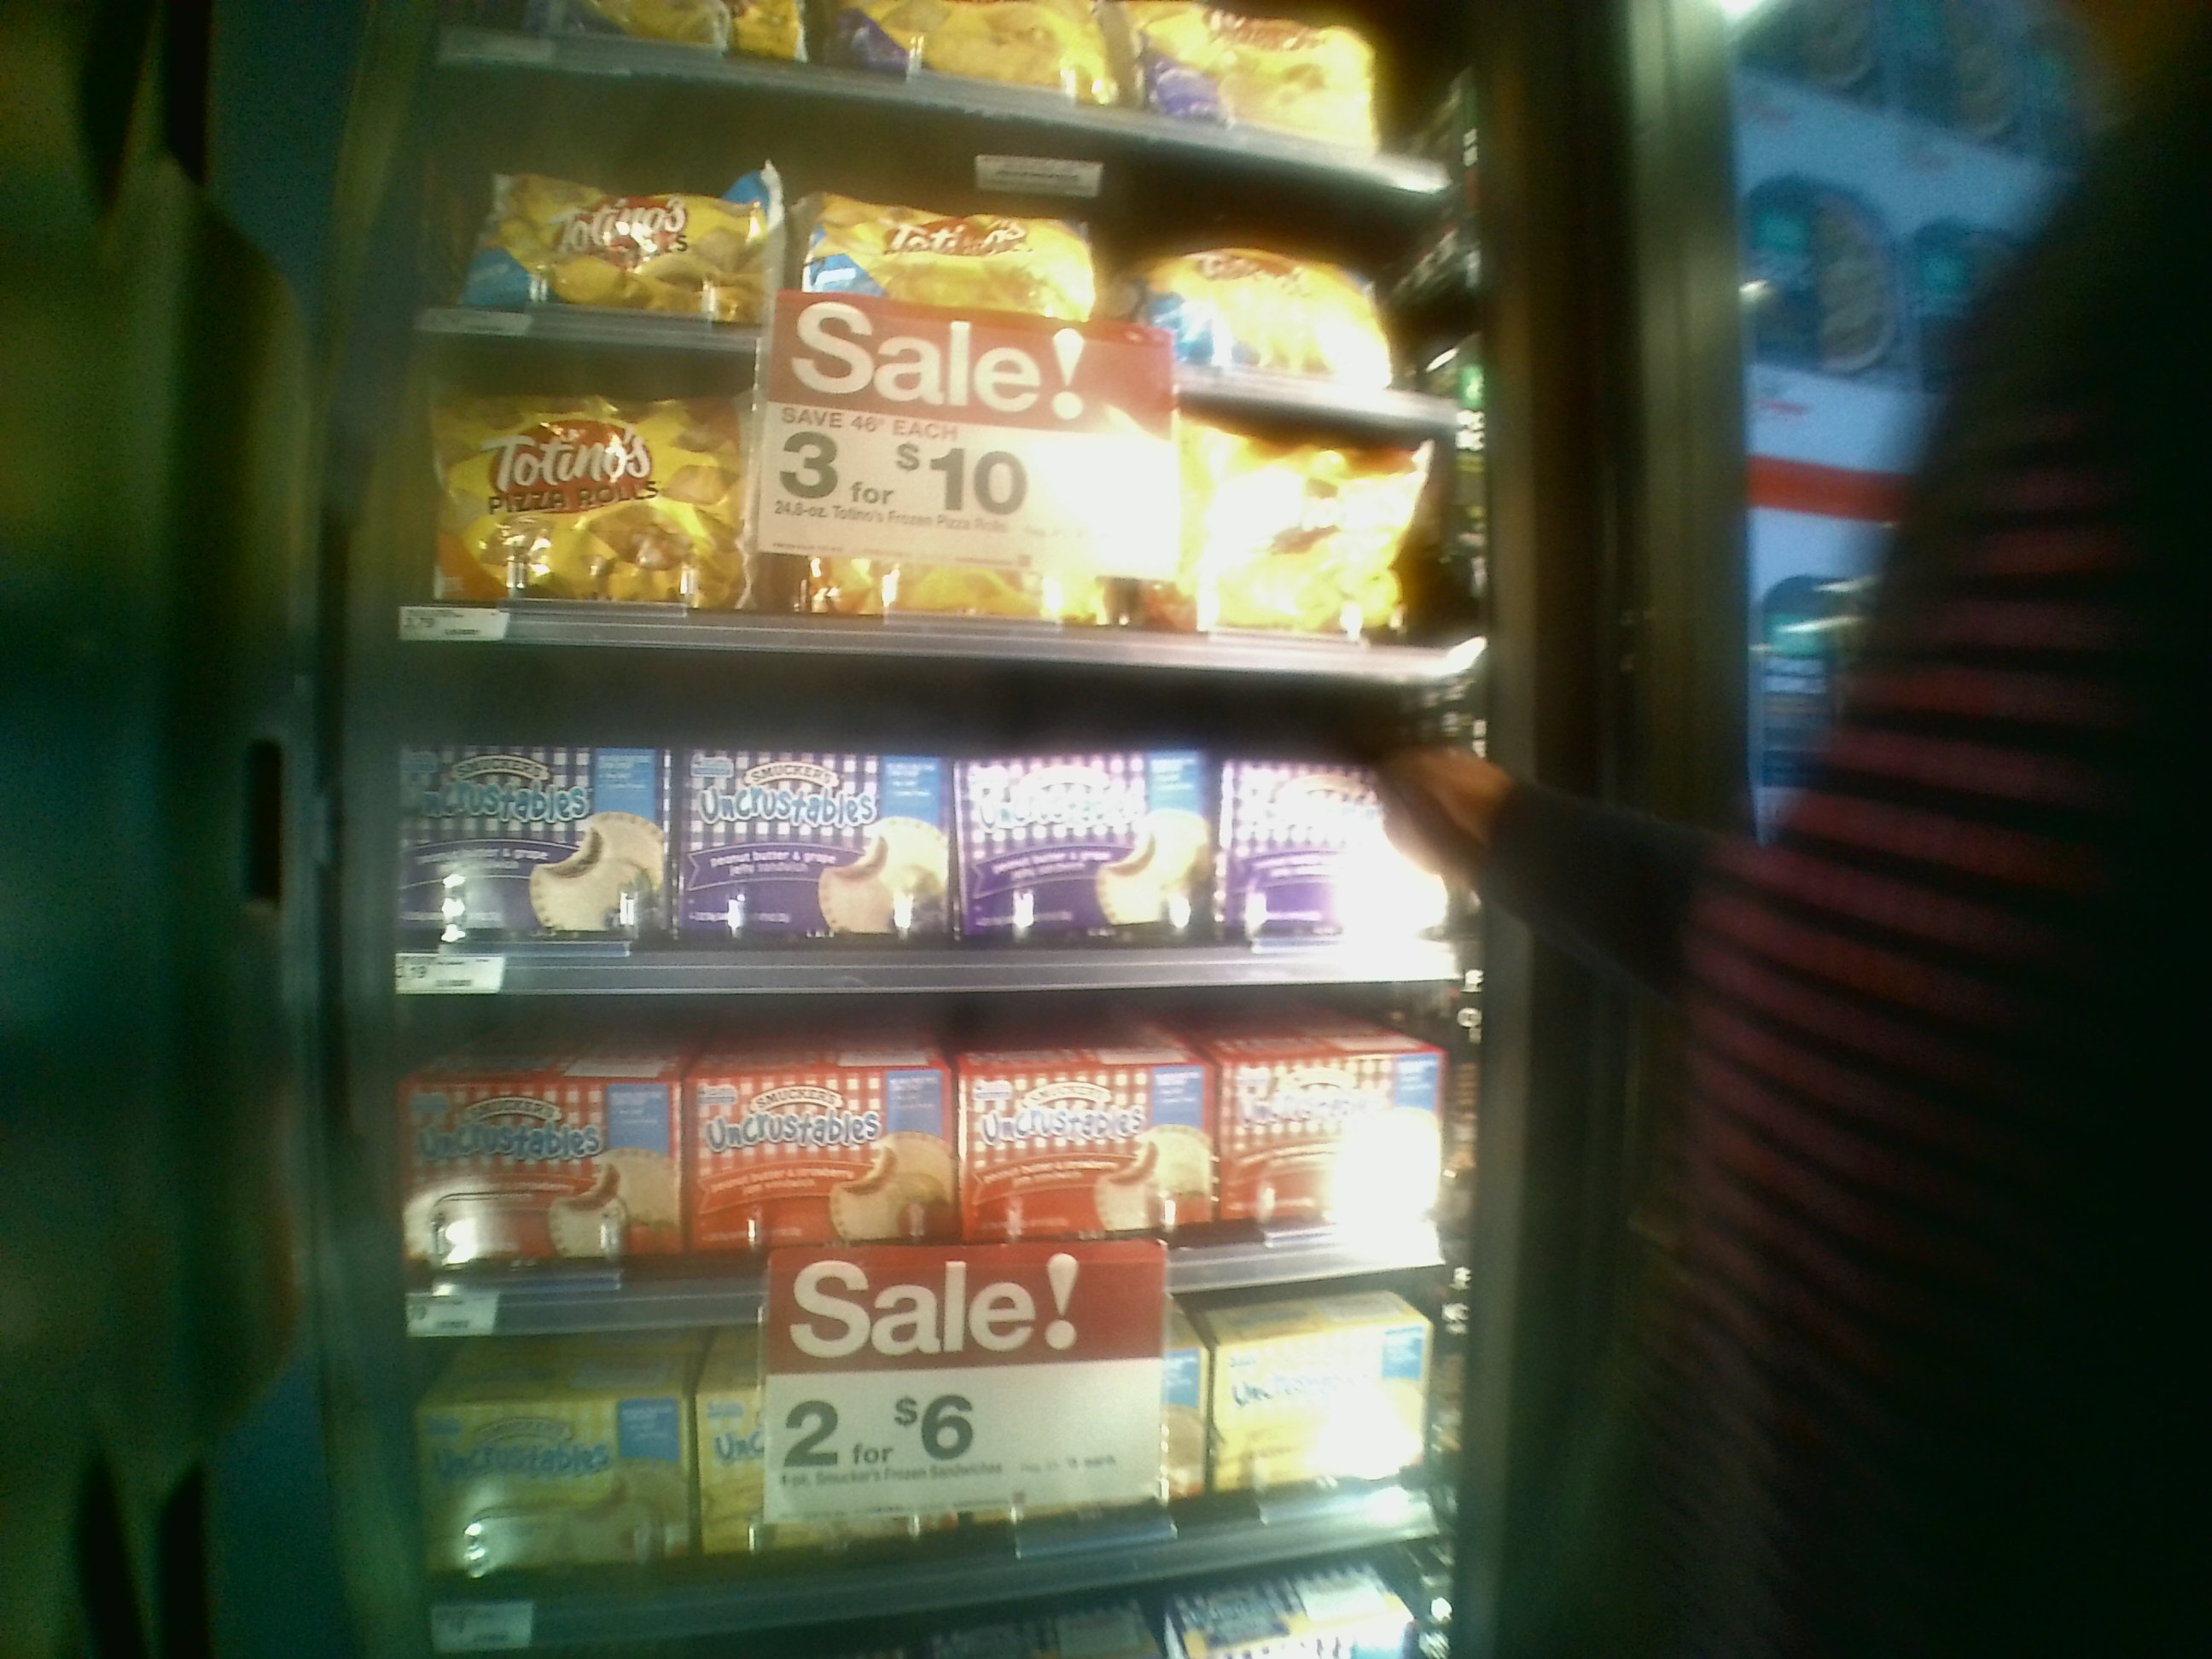shelf: (359, 647, 1486, 1004), (380, 336, 1489, 683), (359, 993, 1463, 1305), (380, 1310, 1437, 1561)
